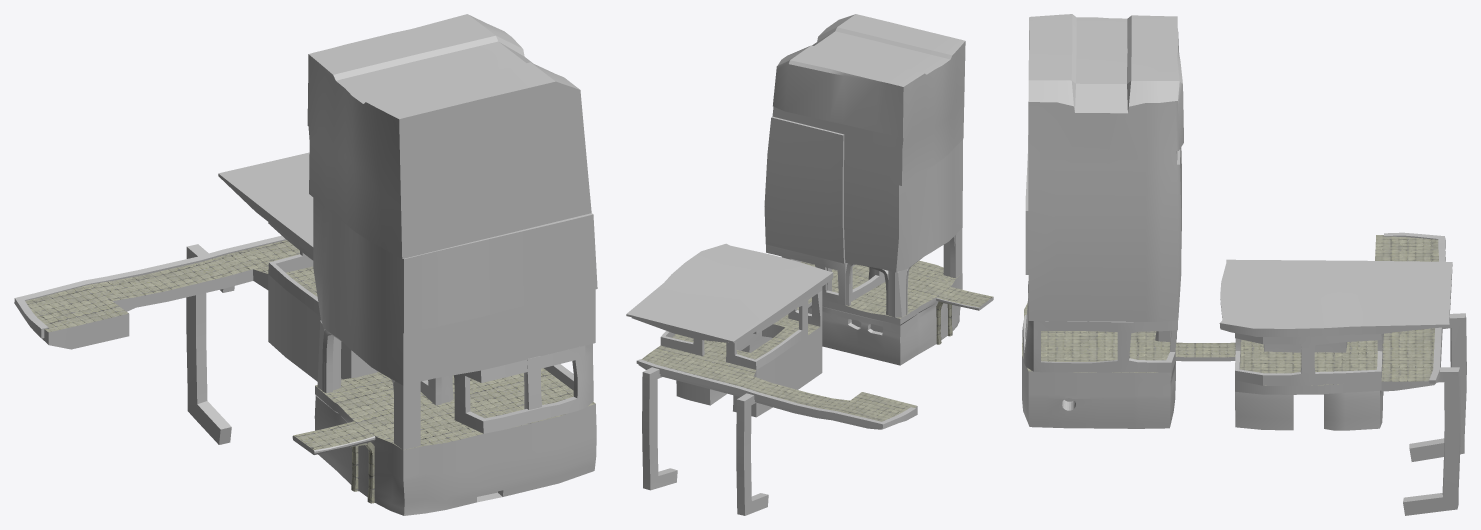
File: SM_Corridor_08_09.fbx
3 views of the same model, side by side, from view 1: azimuth 30°, elevation 25°; view 2: azimuth 150°, elevation 25°; view 3: azimuth 270°, elevation 25° (orthographic). The views are drawn at different scales.
Visible parts, largest first — view 1: SM_Corridor_08_09; view 2: SM_Corridor_08_09; view 3: SM_Corridor_08_09.
Boxes of the visible parts, box(x1,y1,x2,y2) form: SM_Corridor_08_09: box(14, 14, 597, 515); SM_Corridor_08_09: box(626, 14, 993, 515); SM_Corridor_08_09: box(1022, 14, 1466, 515).
Size of the model in its own units: 3303 by 4159 by 3988.
